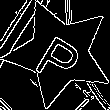P_NE: (29, 23, 89, 84)
